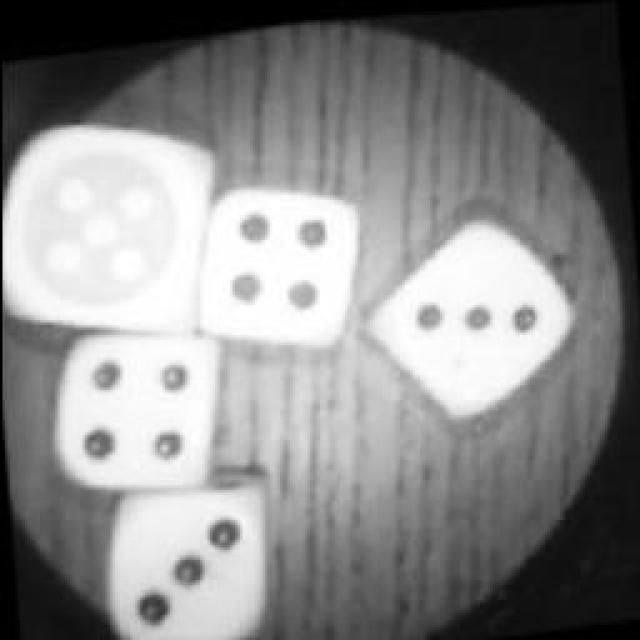dice_3: (352, 198, 590, 442), (88, 462, 280, 640)
dice_4: (37, 299, 235, 499), (179, 160, 369, 368)
dice_5: (0, 90, 232, 350)
